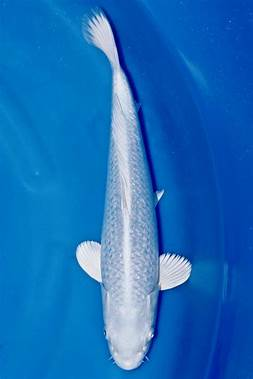white: (74, 6, 192, 371)
